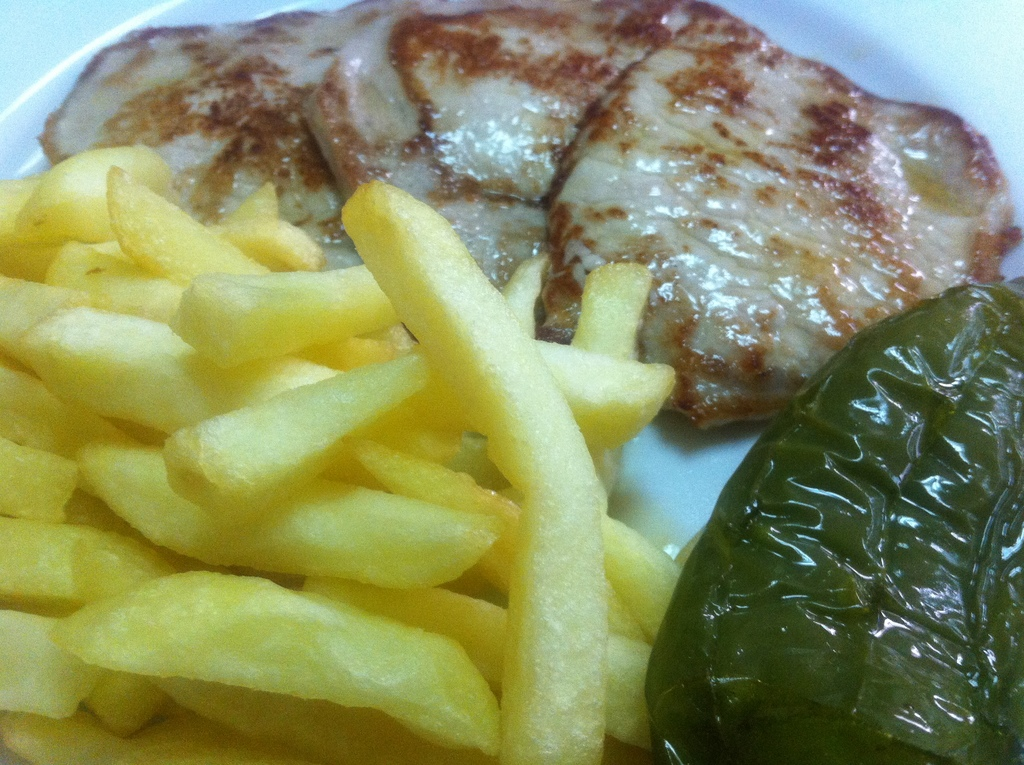French fries: (41, 154, 695, 683)
